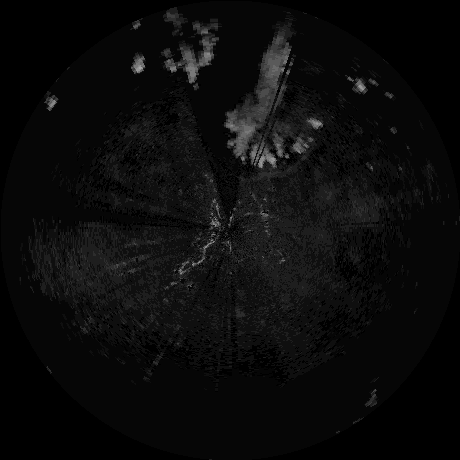frontgust: (242, 154, 307, 182)
